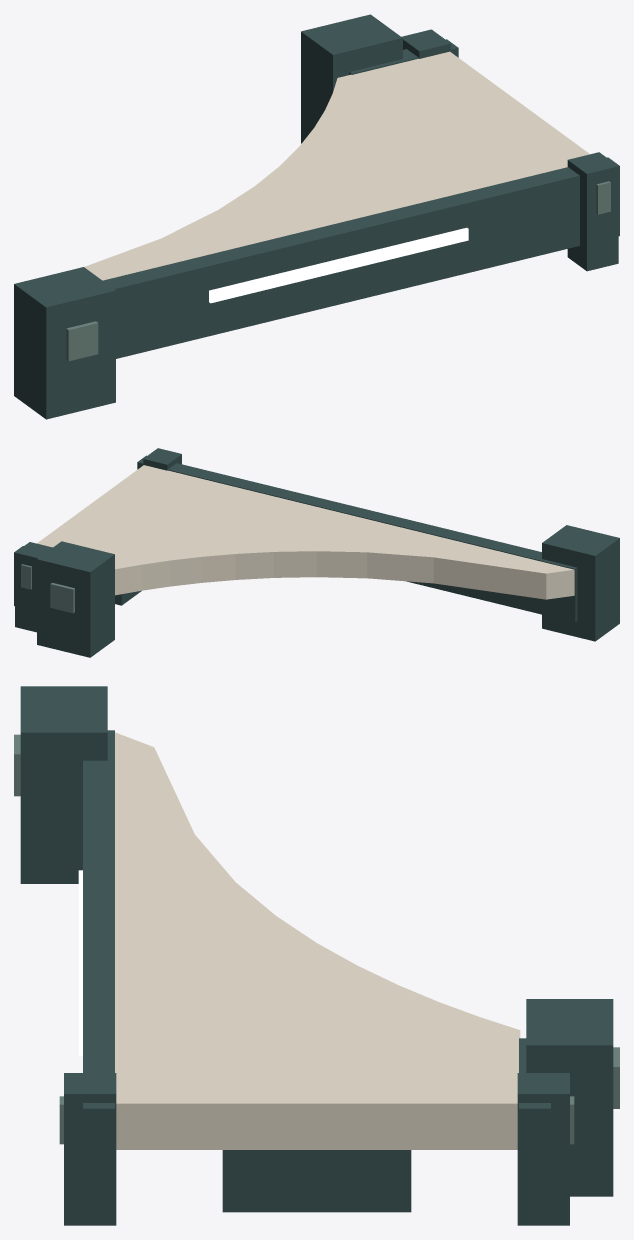
File: Pier_Angled_55_lab.glb
3 renders of one model, top to bottom at view 1: azimuth 30°, elevation 25°; view 2: azimuth 150°, elevation 25°; view 3: azimuth 270°, elevation 25°, orthographic. The views are drawn at different scales.
Visible parts, largest first — view 1: Pier_Angled_55; view 2: Pier_Angled_55; view 3: Pier_Angled_55.
Part boxes in pixels (left/top/right/bottom): Pier_Angled_55: left=14, top=14, right=619, bottom=419; Pier_Angled_55: left=14, top=448, right=619, bottom=657; Pier_Angled_55: left=14, top=686, right=619, bottom=1225.
Size of the model in its own units: 6.41 by 1.15 by 4.17.
